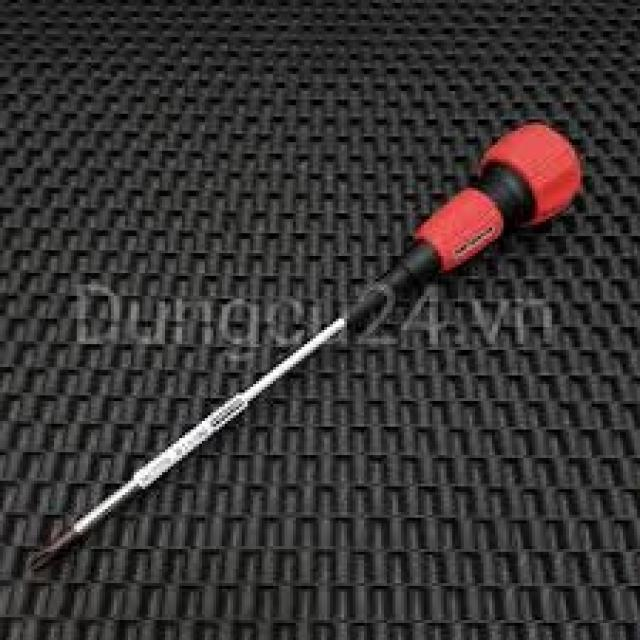screwdriver: (24, 122, 585, 575)
